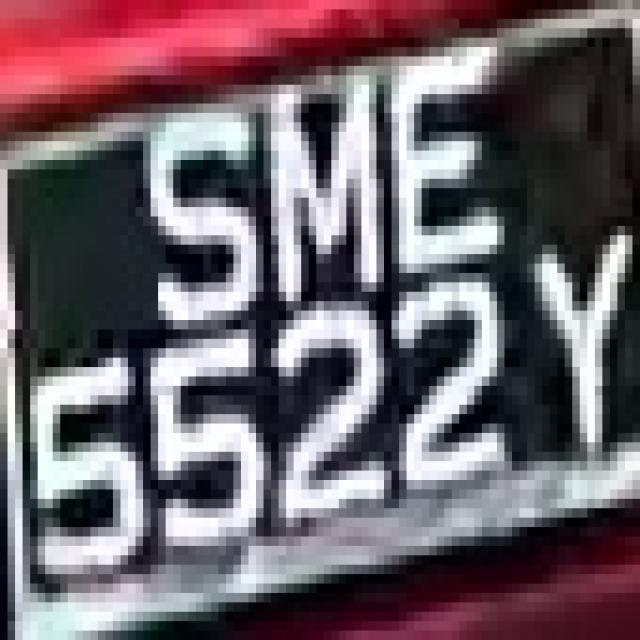2: (369, 244, 542, 536), (271, 282, 399, 574)
5: (143, 292, 294, 593), (15, 320, 158, 621)
E: (369, 47, 519, 292)
M: (241, 75, 399, 301)
S: (105, 75, 264, 339)
Y: (6, 4, 8, 8)
